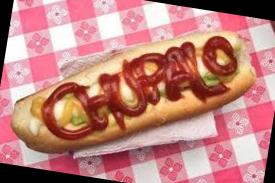Completos: (0, 0, 267, 183)
